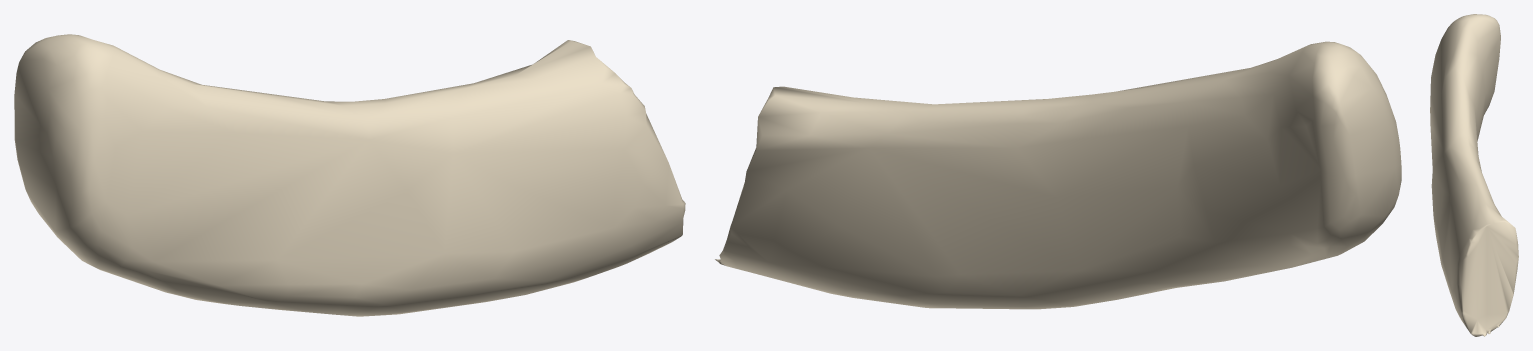
File: costal-cartilage-of-fourth-rib-l.glb
The picture shows the model from 3 angles, left to right: view 1: azimuth 30°, elevation 25°; view 2: azimuth 150°, elevation 25°; view 3: azimuth 270°, elevation 25°; orthographic projection. The views are drawn at different scales.
Visible parts, largest first — view 1: Costal cartilage of fourth rib.l; view 2: Costal cartilage of fourth rib.l; view 3: Costal cartilage of fourth rib.l.
Part boxes in pixels (box(x1,y1,x2,y2)): Costal cartilage of fourth rib.l: box(14, 34, 685, 316); Costal cartilage of fourth rib.l: box(715, 41, 1401, 309); Costal cartilage of fourth rib.l: box(1430, 14, 1518, 336).
Size of the model in its own units: 0.0546 by 0.0291 by 0.013.
